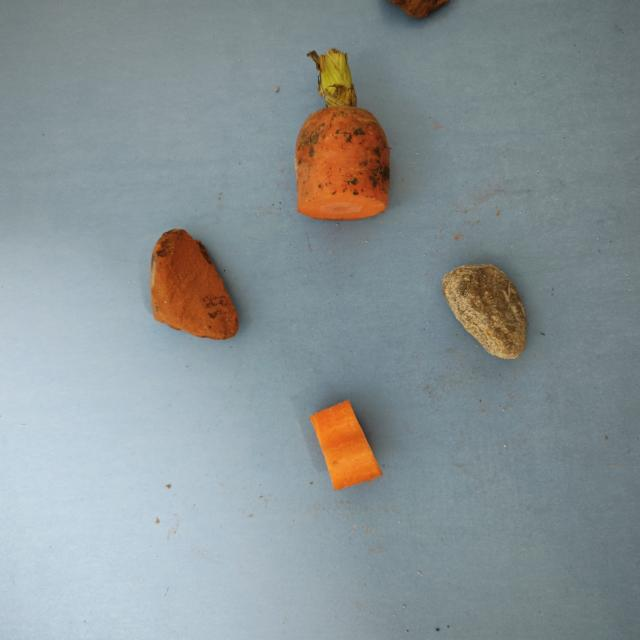-Kitchen waste - carrot-: (298, 46, 391, 220), (310, 398, 384, 492)
-Other waste - brick-: (146, 227, 241, 345)
-Other waste - pebble-: (442, 258, 528, 362)
